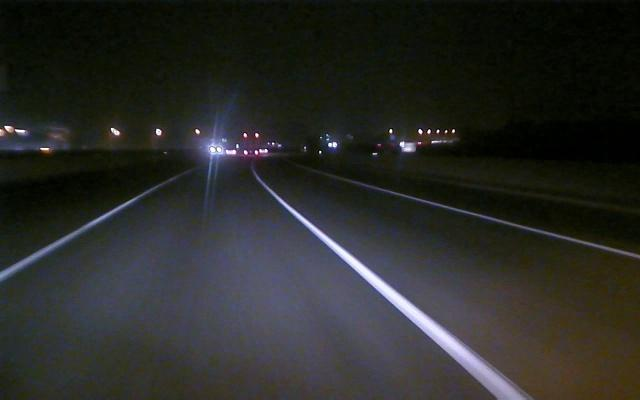lane: (262, 185, 533, 399), (343, 178, 640, 260), (2, 185, 159, 281)
